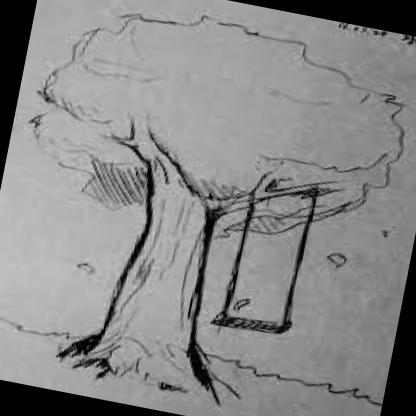branch_cut: (104, 102, 351, 224)
crown_cloud: (19, 0, 416, 263)
root_none: (39, 314, 269, 415)
trunk_bark: (99, 213, 224, 337)
